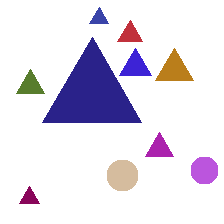circle: (107, 160, 137, 190), (191, 157, 217, 183)
triangle: (42, 37, 141, 122), (155, 48, 193, 80), (119, 48, 151, 75), (16, 69, 44, 93), (145, 132, 173, 156), (117, 20, 142, 41), (19, 186, 39, 203), (89, 7, 108, 23)
